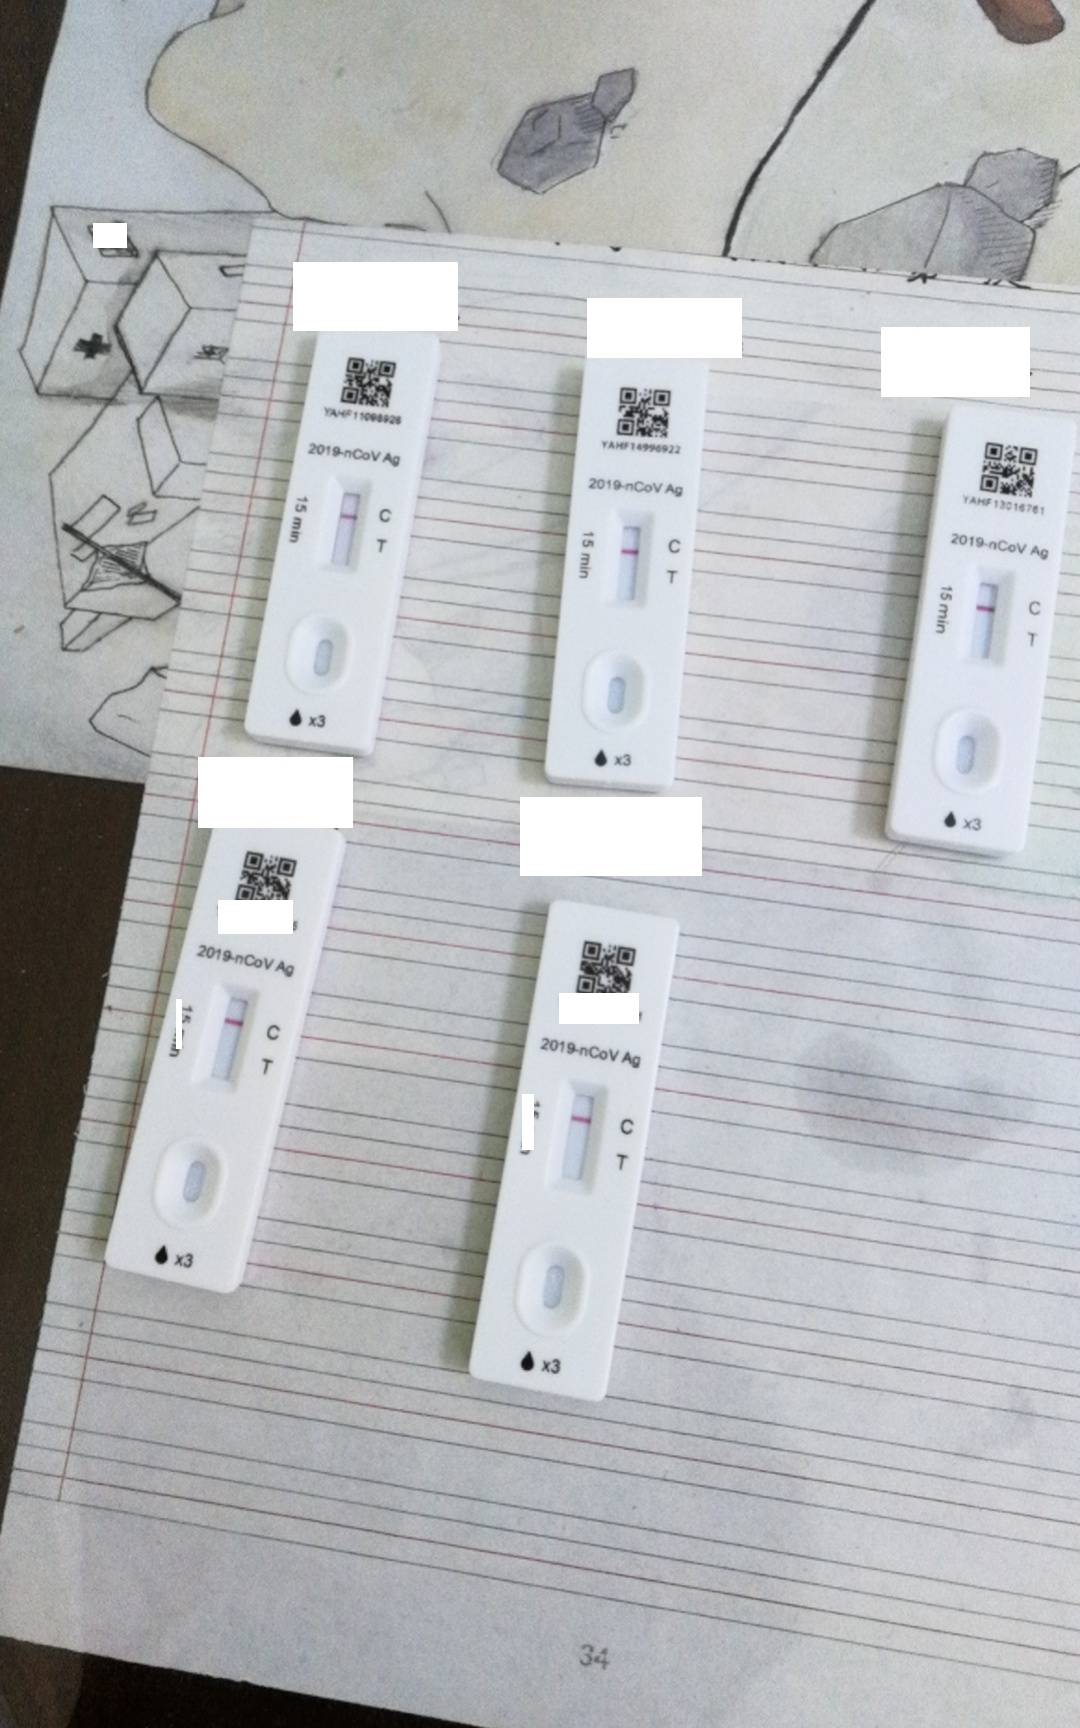negative: (552, 1081, 605, 1189), (200, 985, 254, 1087), (325, 480, 366, 569), (610, 515, 646, 608), (969, 574, 1002, 661)
